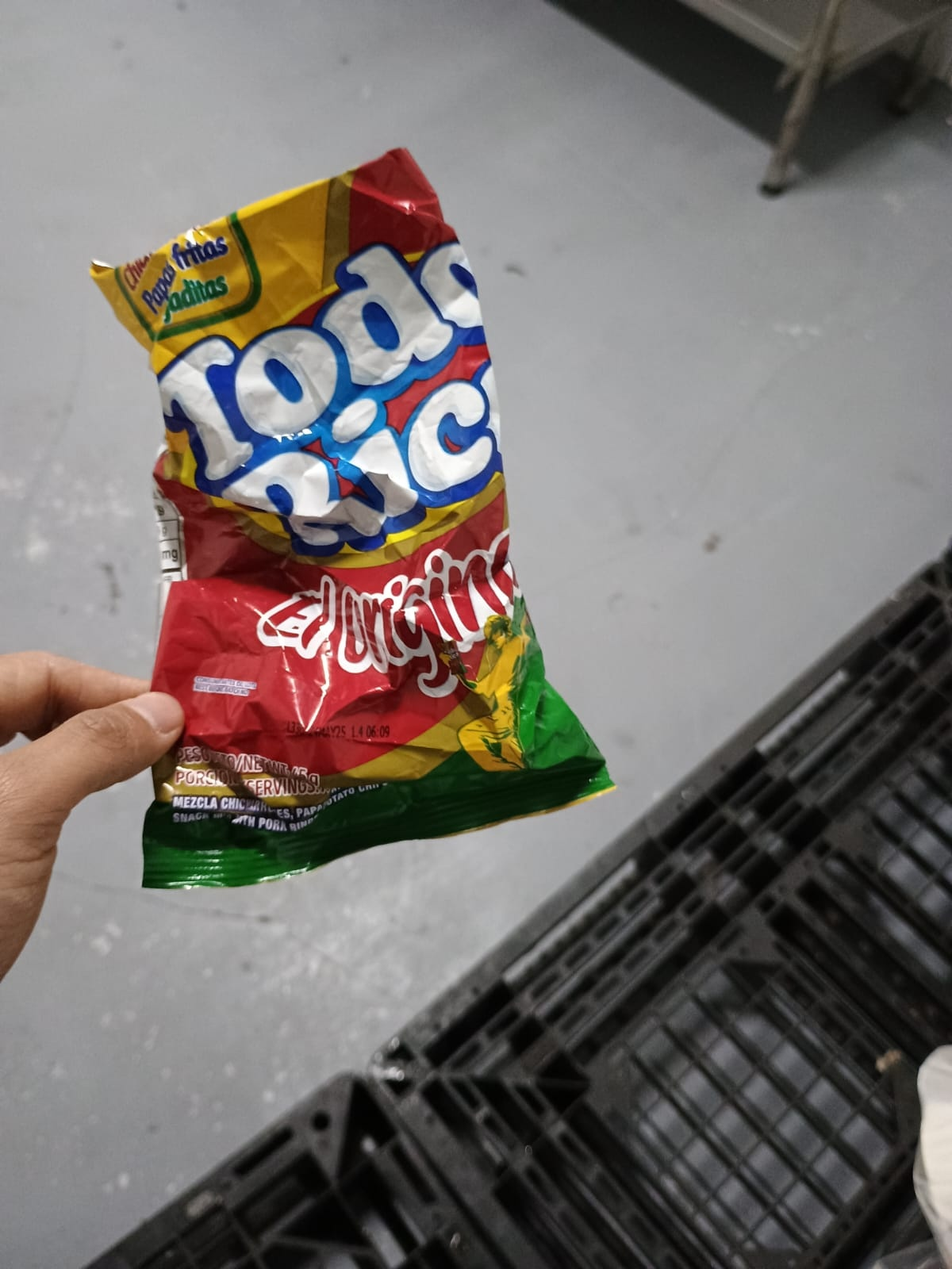Ordinario: (90, 150, 618, 888)
